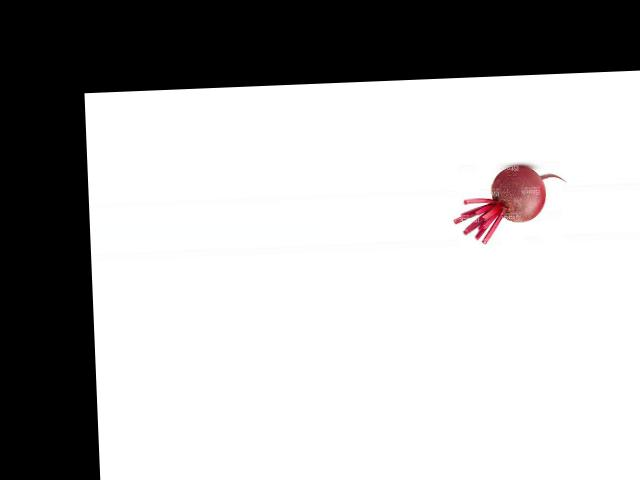beet: (450, 164, 567, 244)
